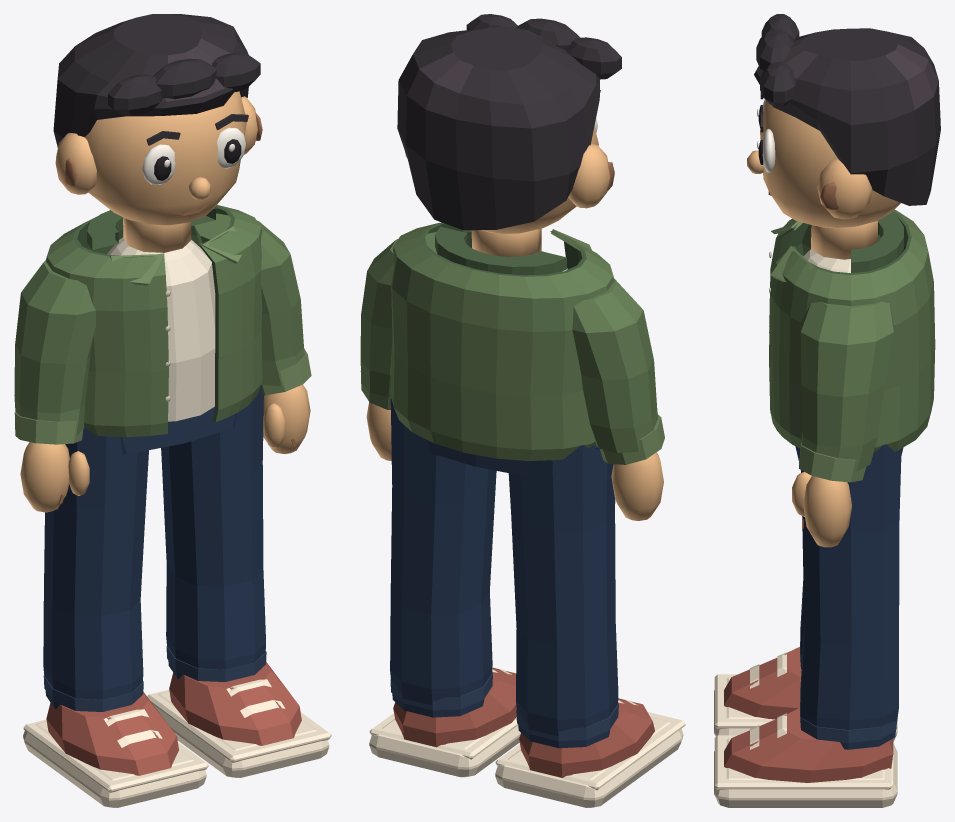
Rendered from campus_visitor_man_v01.glb.
3 renders of one model, left to right at view 1: azimuth 30°, elevation 25°; view 2: azimuth 150°, elevation 25°; view 3: azimuth 270°, elevation 25°, orthographic. The views are drawn at different scales.
Parts seen in each view (by area): view 1: campus_visitor_man; view 2: campus_visitor_man; view 3: campus_visitor_man.
Part boxes in pixels (x1,y1,x2,y2): campus_visitor_man: (14,14,331,807); campus_visitor_man: (360,14,685,807); campus_visitor_man: (714,14,940,807).
Size of the model in its own units: 0.7738 by 1.81 by 0.5191.
Materials: 1 (1 with a texture image).
